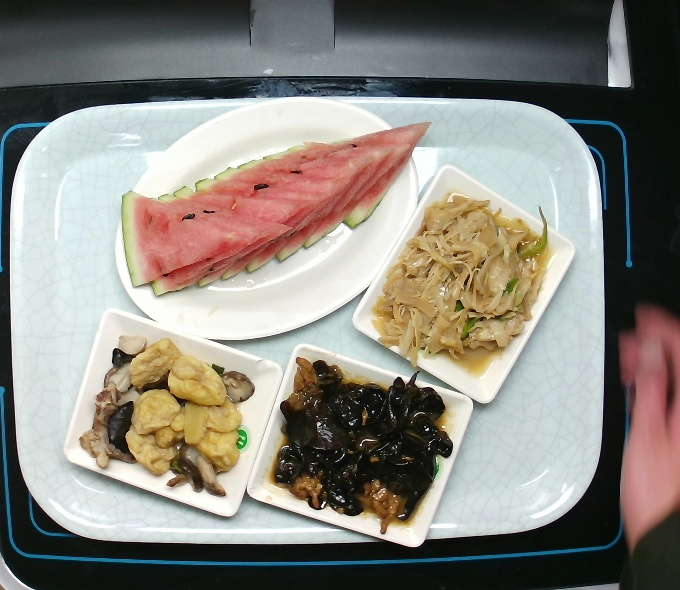wcq-LuSun: (367, 186, 550, 382)
wcq-MuErChaoRou: (254, 357, 457, 520)
wcq-XiGua: (110, 112, 439, 301)
wcq-YouPaoPaiGu: (74, 310, 257, 506)
